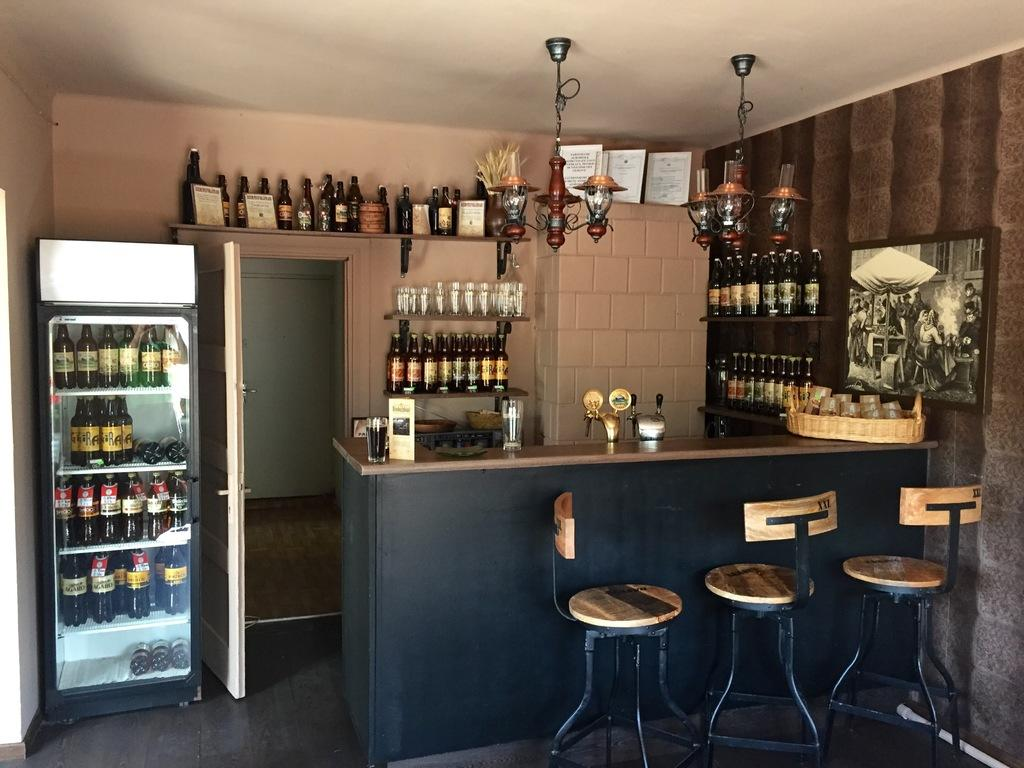handle: (222, 477, 252, 509)
